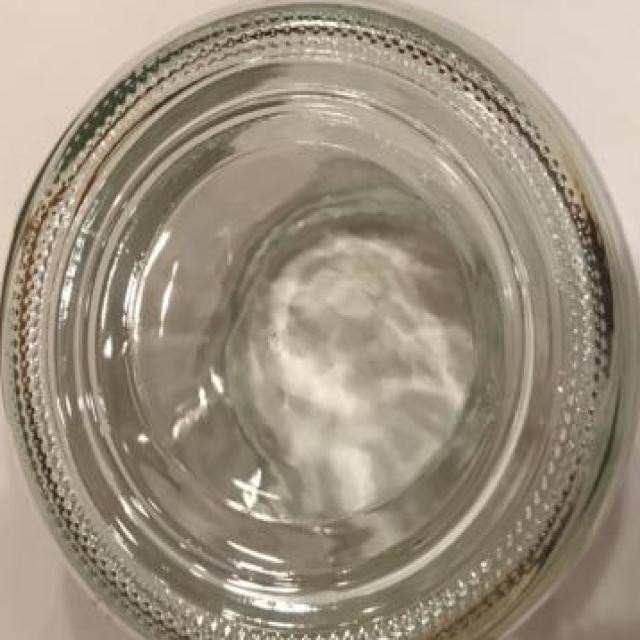organic: (9, 0, 630, 640)
